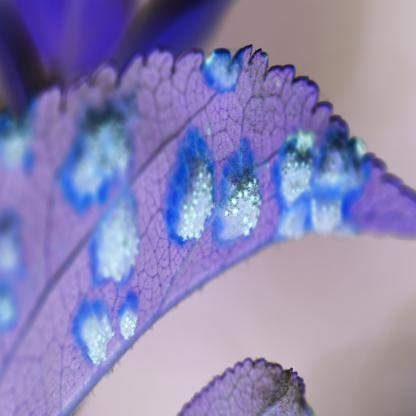Apple rust leaf: (4, 36, 408, 416)
